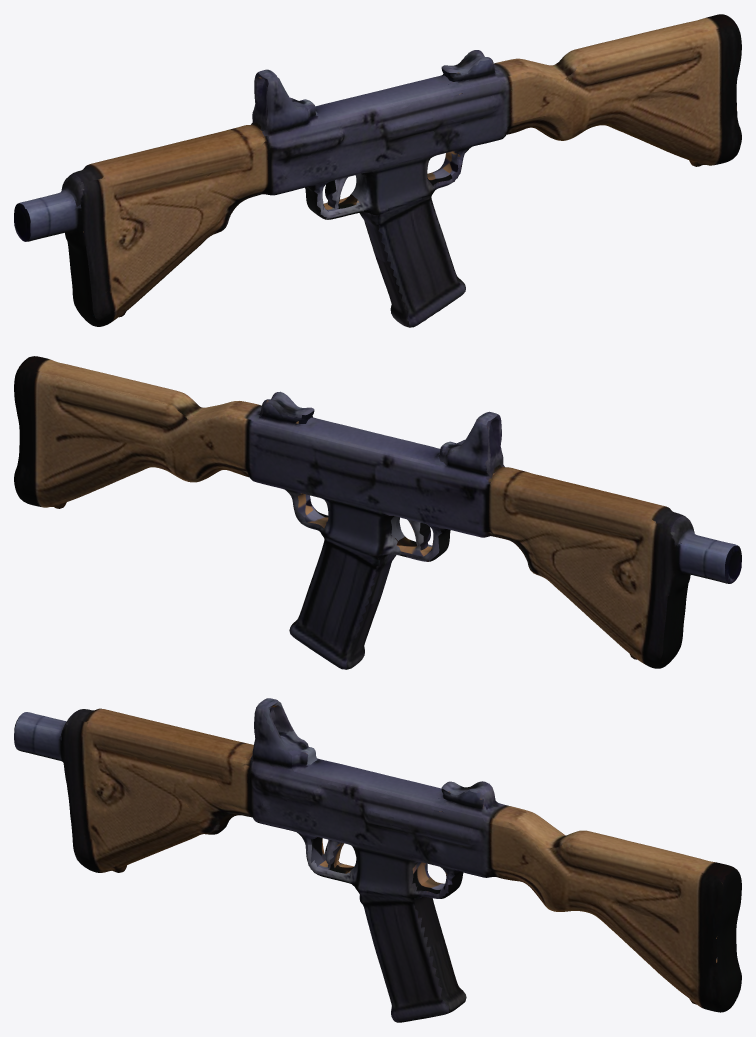
Rendered from catalog-ammo-2.glb.
3 views of the same model, one above another, from view 1: azimuth 30°, elevation 25°; view 2: azimuth 150°, elevation 25°; view 3: azimuth 330°, elevation 25° (orthographic).
Parts seen in each view (by area): view 1: tmpz2imadqt.ply; view 2: tmpz2imadqt.ply; view 3: tmpz2imadqt.ply.
Boxes of the visible parts, <box> form: tmpz2imadqt.ply: <box>14,14,741,327</box>; tmpz2imadqt.ply: <box>14,356,741,669</box>; tmpz2imadqt.ply: <box>14,698,741,1022</box>.
Size of the model in its own units: 1.96 by 0.7452 by 0.1164.
1 material, 1 textured.
